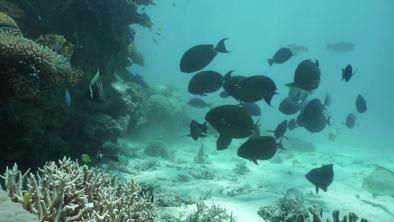Acanthuridae -Surgeonfishes-: (170, 36, 238, 76), (200, 101, 265, 141), (234, 131, 291, 165), (184, 67, 236, 97), (301, 159, 338, 197), (262, 45, 296, 68)
